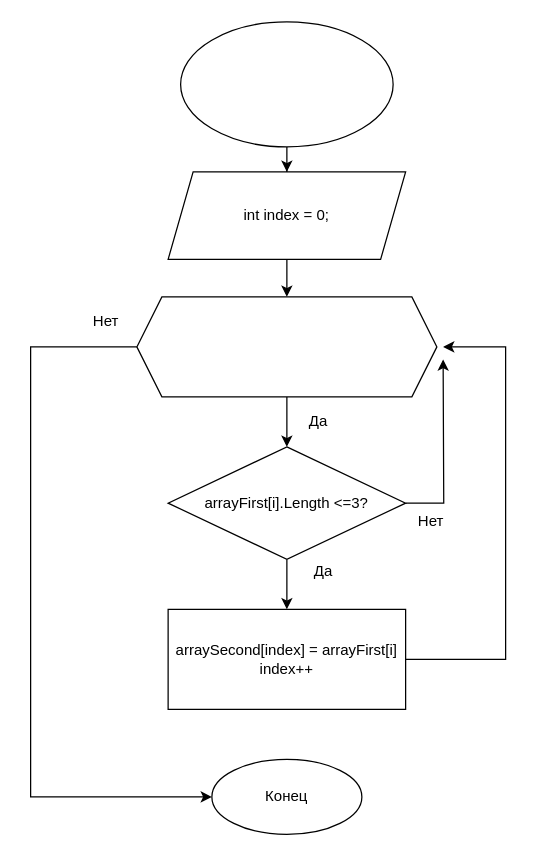
Some shapes in this 538 by 856 pixel diagram are drawn without their labels. The shapes that lost their labels are listed below. From the top down, each one's centre as x and y in pixels, then its label:
point (286, 84): ResultArray(string[] arrayFirst, string[] arraySecond)
point (286, 346): int i = 0; i < arrayFirst.Length; i++
